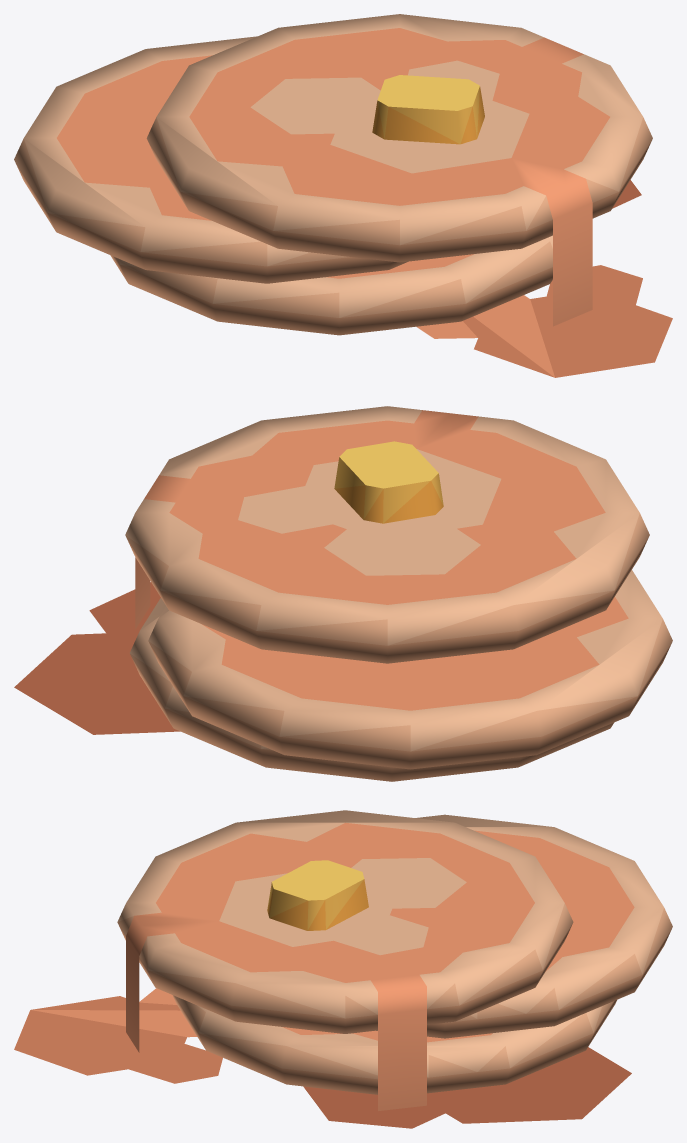
The model's file is panqueca.glb.
3 renders of one model, top to bottom at view 1: azimuth 30°, elevation 25°; view 2: azimuth 150°, elevation 25°; view 3: azimuth 270°, elevation 25°, orthographic. The views are drawn at different scales.
Visible parts, largest first — view 1: pancake, pancakes, butter; view 2: pancake, pancakes, butter; view 3: pancake, pancakes, butter.
Part boxes in pixels (x1,y1,x2,y2): pancake: (14,14,652,335); pancakes: (416,180,672,377); butter: (372,75,484,144); pancake: (125,406,672,781); pancakes: (14,582,180,734); butter: (334,441,443,523); pancake: (117,810,672,1110); pancakes: (14,988,631,1128); butter: (267,860,368,930).
Bounding box in the file's own units: 0.4355 × 0.1216 × 0.5039.
